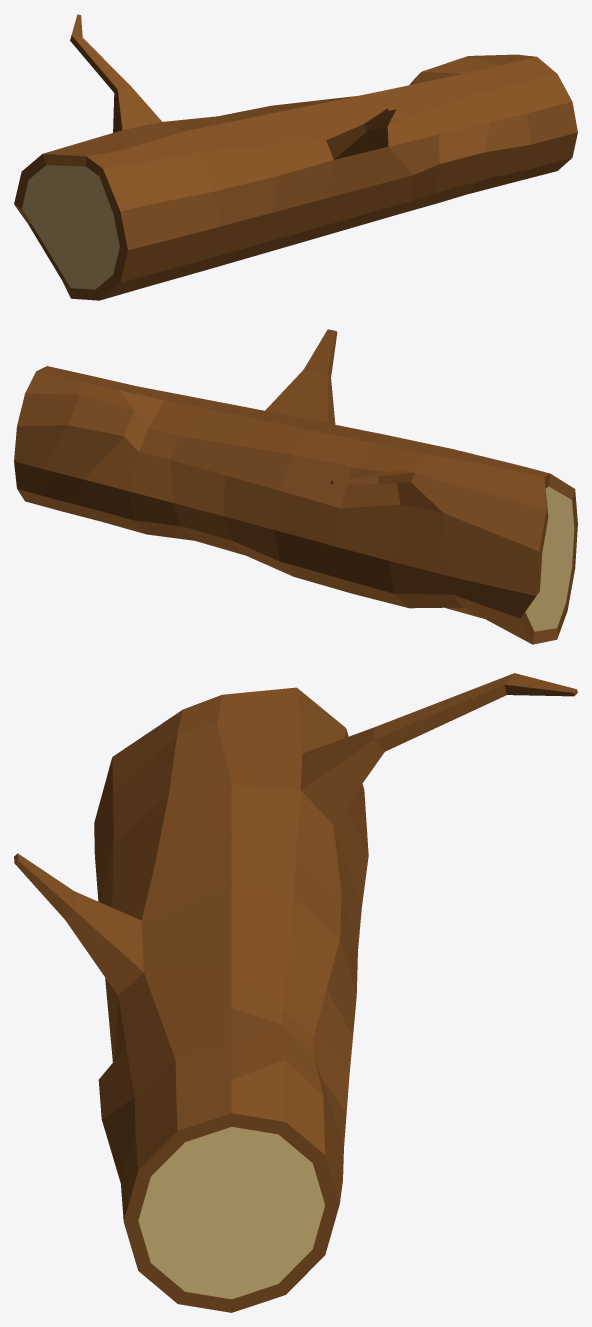
The model's file is Log_v1.fbx.
3 views of the same model, one above another, from view 1: azimuth 30°, elevation 25°; view 2: azimuth 150°, elevation 25°; view 3: azimuth 270°, elevation 25° (orthographic). The views are drawn at different scales.
Visible parts, largest first — view 1: Cylinder; view 2: Cylinder; view 3: Cylinder.
Boxes of the visible parts, x1=… form: Cylinder: x1=14, y1=14, x2=577, y2=300; Cylinder: x1=14, y1=329, x2=577, y2=644; Cylinder: x1=14, y1=673, x2=577, y2=1312.
Bounding box in the file's own units: 684 × 247 × 377.
